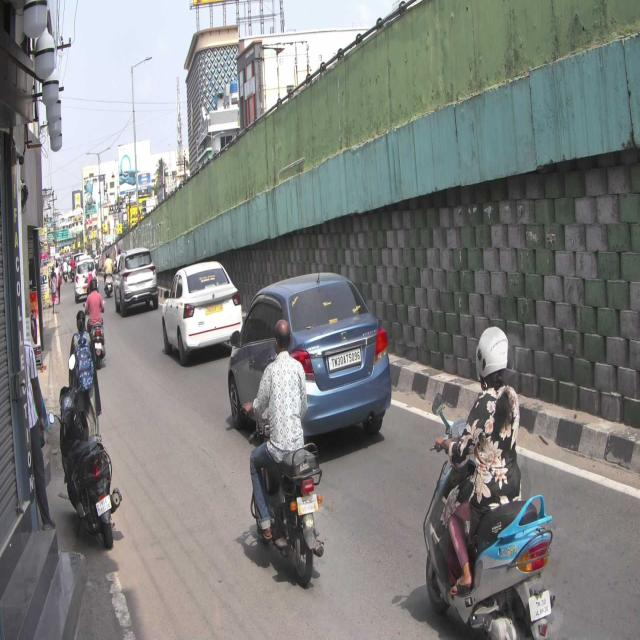single_rider: (422, 322, 555, 640), (242, 316, 327, 588)
